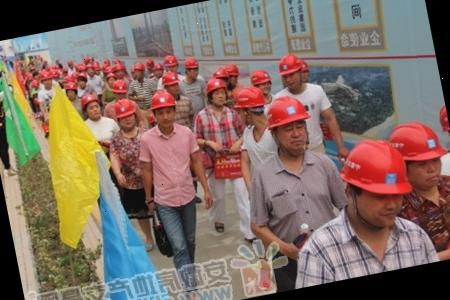helmet: (338, 131, 414, 205), (384, 116, 450, 170), (272, 52, 308, 78), (146, 88, 180, 114), (431, 100, 450, 134), (247, 68, 272, 86), (204, 76, 227, 94), (109, 76, 130, 94), (222, 62, 242, 80), (160, 69, 181, 86), (78, 91, 100, 107), (210, 66, 228, 82), (162, 53, 180, 68), (182, 57, 200, 72), (130, 61, 146, 72)
no_wear: (244, 150, 350, 252), (302, 211, 436, 286), (141, 124, 207, 210), (399, 179, 450, 265), (192, 102, 247, 166), (106, 125, 160, 190)
